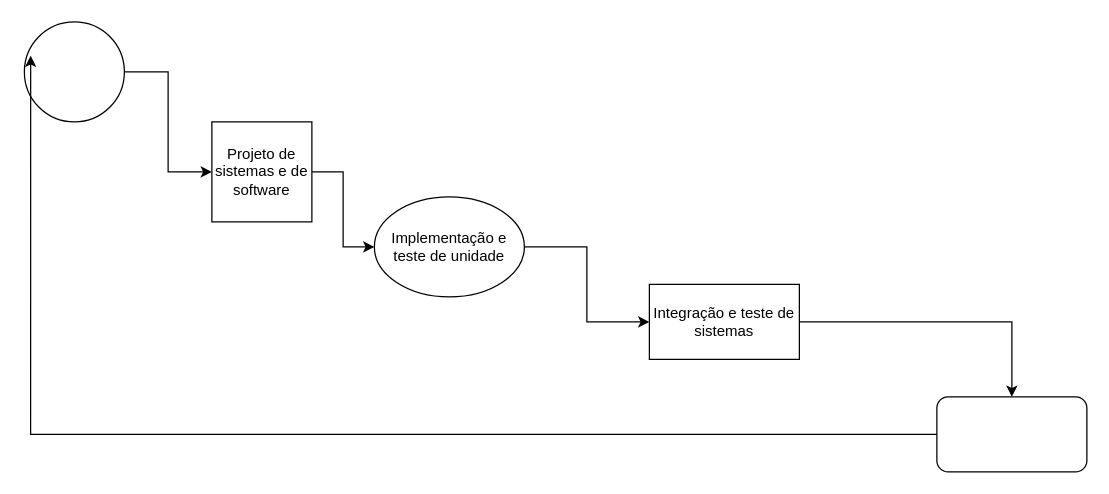
This 1109x494 diagram has some shape labels left out. Each missing label, with the box of its shape:
Análise e definição de requisitos: (23, 21, 124, 122)
Operação e manutenção: (936, 396, 1087, 472)
